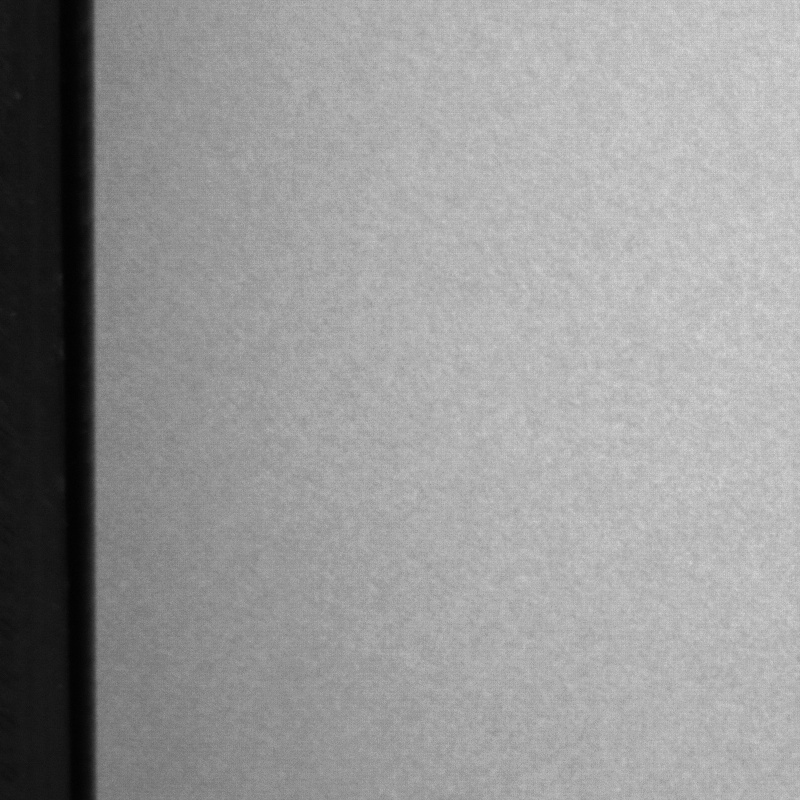defect: (526, 63, 539, 80)
